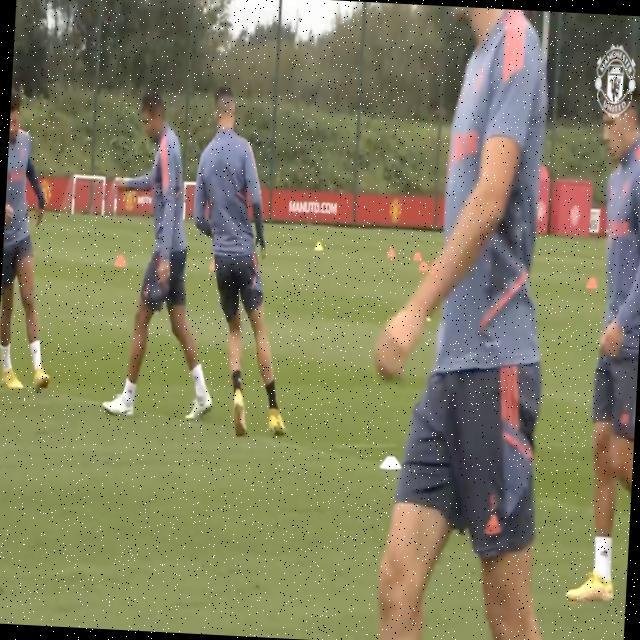Adidas: (484, 510, 503, 539), (598, 543, 611, 561)
